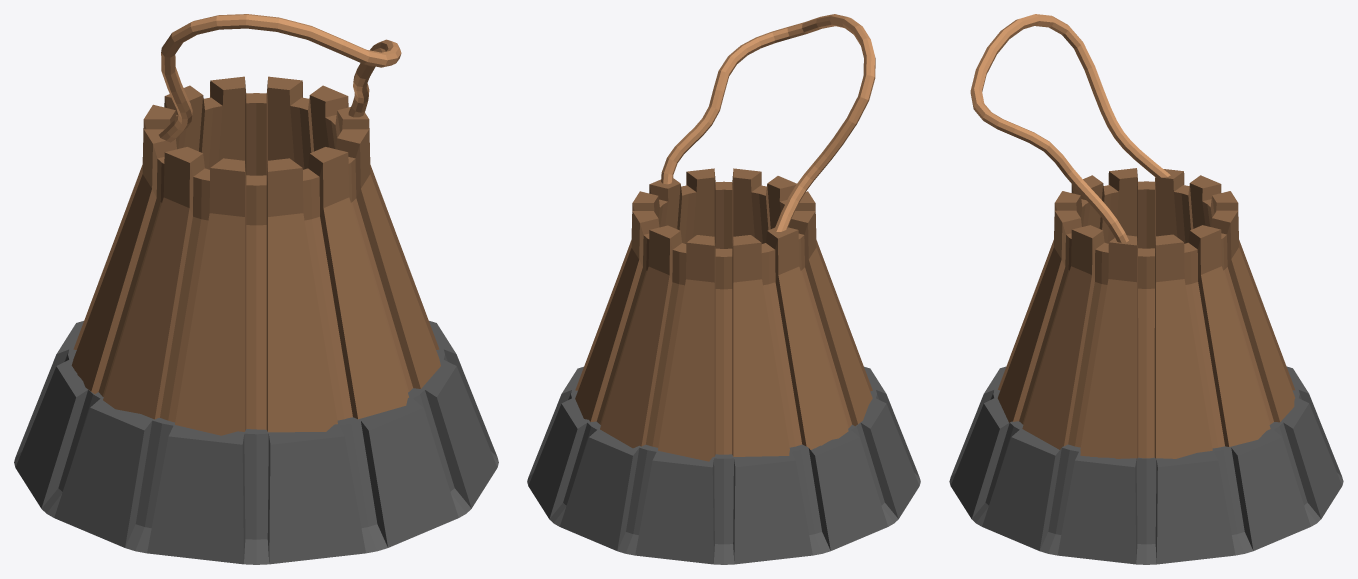
File: bucket.fbx
3 views of the same model, side by side, from view 1: azimuth 30°, elevation 25°; view 2: azimuth 150°, elevation 25°; view 3: azimuth 270°, elevation 25° (orthographic). The views are drawn at different scales.
Parts seen in each view (by area): view 1: Cylinder.080, Cylinder.081, BezierCurve; view 2: Cylinder.080, Cylinder.081, BezierCurve; view 3: Cylinder.080, Cylinder.081, BezierCurve.
Boxes of the visible parts, left/top/right/bottom form: Cylinder.080: left=71, top=76, right=440, bottom=435; Cylinder.081: left=14, top=321, right=498, bottom=564; BezierCurve: left=159, top=14, right=401, bottom=142; Cylinder.080: left=575, top=168, right=872, bottom=461; Cylinder.081: left=527, top=366, right=920, bottom=564; BezierCurve: left=661, top=14, right=875, bottom=231; Cylinder.080: left=997, top=168, right=1294, bottom=458; Cylinder.081: left=949, top=366, right=1343, bottom=564; BezierCurve: left=970, top=14, right=1170, bottom=242.
Bounding box in the file's own units: 517 × 619 × 517.
